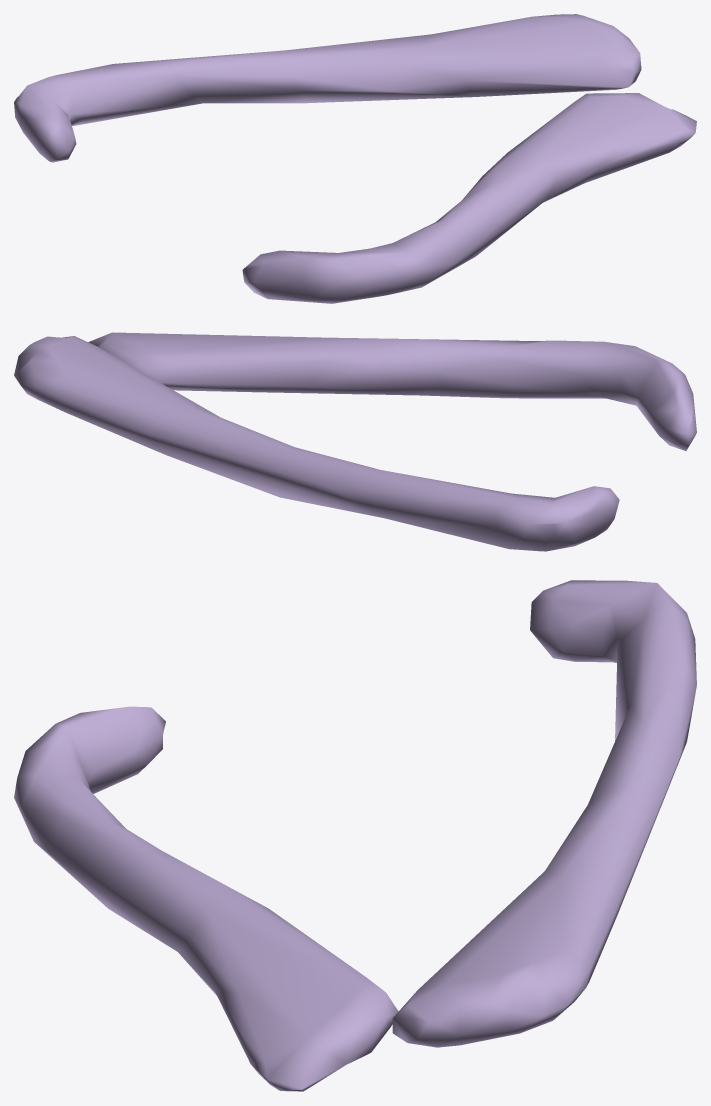
The picture shows the model from 3 angles, top to bottom: view 1: azimuth 30°, elevation 25°; view 2: azimuth 150°, elevation 25°; view 3: azimuth 270°, elevation 25°; orthographic projection. The views are drawn at different scales.
Parts seen in each view (by area): view 1: 右侧泪小管; view 2: 右侧泪小管; view 3: 右侧泪小管.
Part boxes in pixels (<box>): 右侧泪小管: <box>14,14,696,303</box>; 右侧泪小管: <box>14,332,696,551</box>; 右侧泪小管: <box>14,580,696,1091</box>.
Size of the model in its own units: 0.0104 by 0.00171 by 0.00738.
